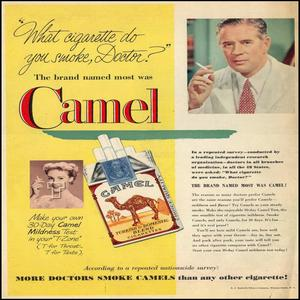cigarette: (191, 59, 214, 81), (36, 175, 42, 185)
